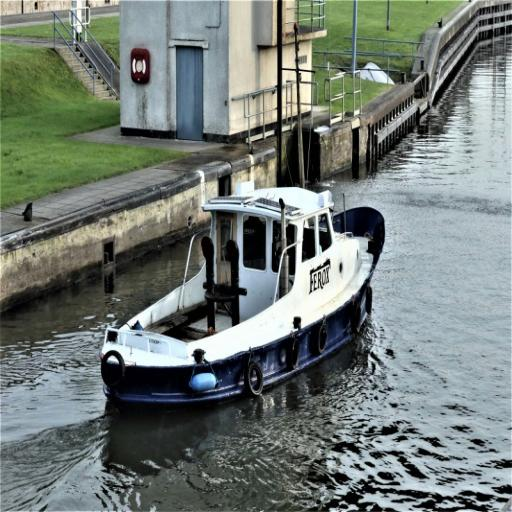tugboat: (96, 18, 390, 427)
